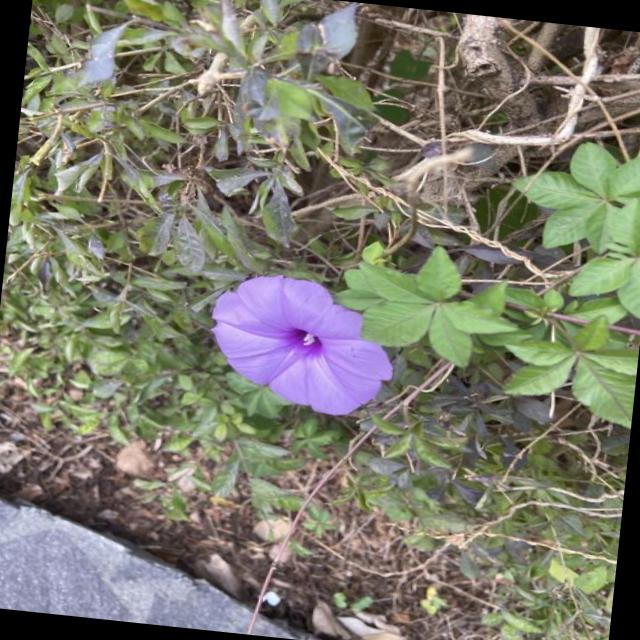ipomoea: (197, 264, 405, 424)
